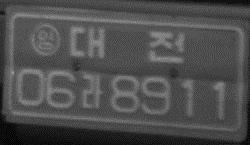0: (15, 68, 45, 107)
1: (179, 76, 196, 120), (212, 77, 227, 123)
6: (46, 69, 76, 109)
8: (109, 74, 142, 113)
9: (141, 76, 172, 116)
대전_D: (69, 23, 185, 65)
라: (80, 73, 105, 110)
영: (30, 22, 61, 57)
